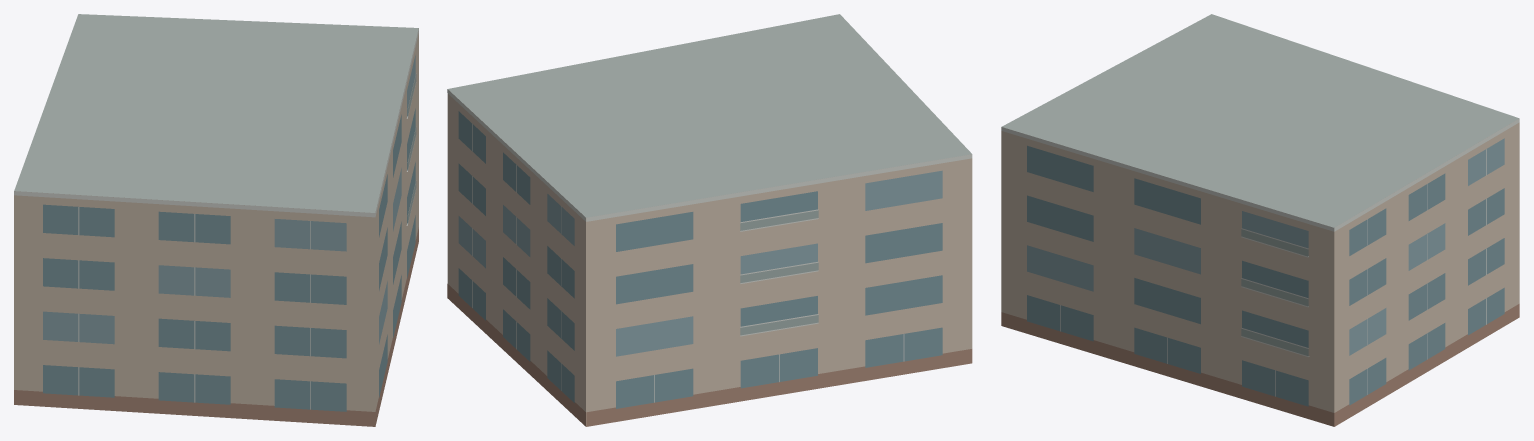
The model's file is residential-ed18ab1f-d5ef-405e-b467-1a4db834fd89.glb.
The picture shows the model from 3 angles, left to right: view 1: azimuth 30°, elevation 25°; view 2: azimuth 150°, elevation 25°; view 3: azimuth 270°, elevation 25°; orthographic projection. The views are drawn at different scales.
Parts seen in each view (by area): view 1: residential-ed18ab1f-d5ef-405e-b467-1a4db834fd89.tmp; view 2: residential-ed18ab1f-d5ef-405e-b467-1a4db834fd89.tmp; view 3: residential-ed18ab1f-d5ef-405e-b467-1a4db834fd89.tmp.
Part boxes in pixels (<box>): residential-ed18ab1f-d5ef-405e-b467-1a4db834fd89.tmp: <box>14,14,418,426</box>; residential-ed18ab1f-d5ef-405e-b467-1a4db834fd89.tmp: <box>447,14,972,426</box>; residential-ed18ab1f-d5ef-405e-b467-1a4db834fd89.tmp: <box>1001,14,1519,426</box>.
Bounding box in the file's own units: 28.11 × 12.2 × 28.79.
